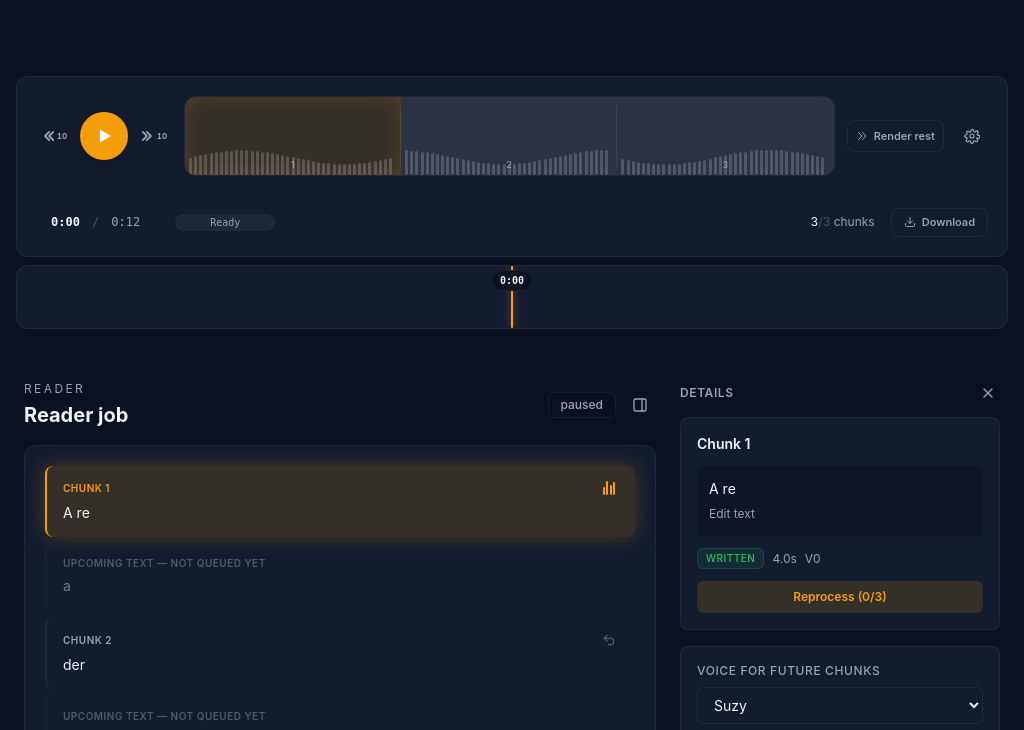
Test: the chunk jump button moves the playhead without starting playback
Expected: the heading "Reader job" is shown, [24,401,128,429]
# Chunk 2 starts 4s into the document.
Click the button named "Jump playback to chunk 2". click: click(609, 640)
box: [599,630,619,650]
(page scrolled)
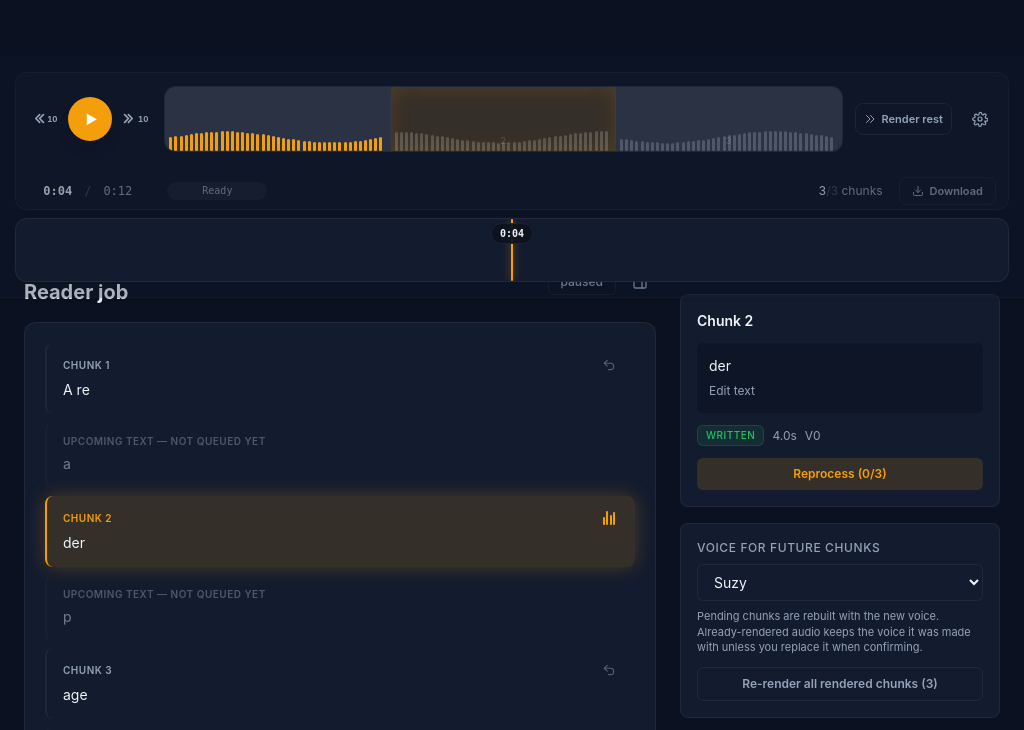
Expected: the text with test id "conveyor-readout" reads "0:04", [500,228,524,239]
